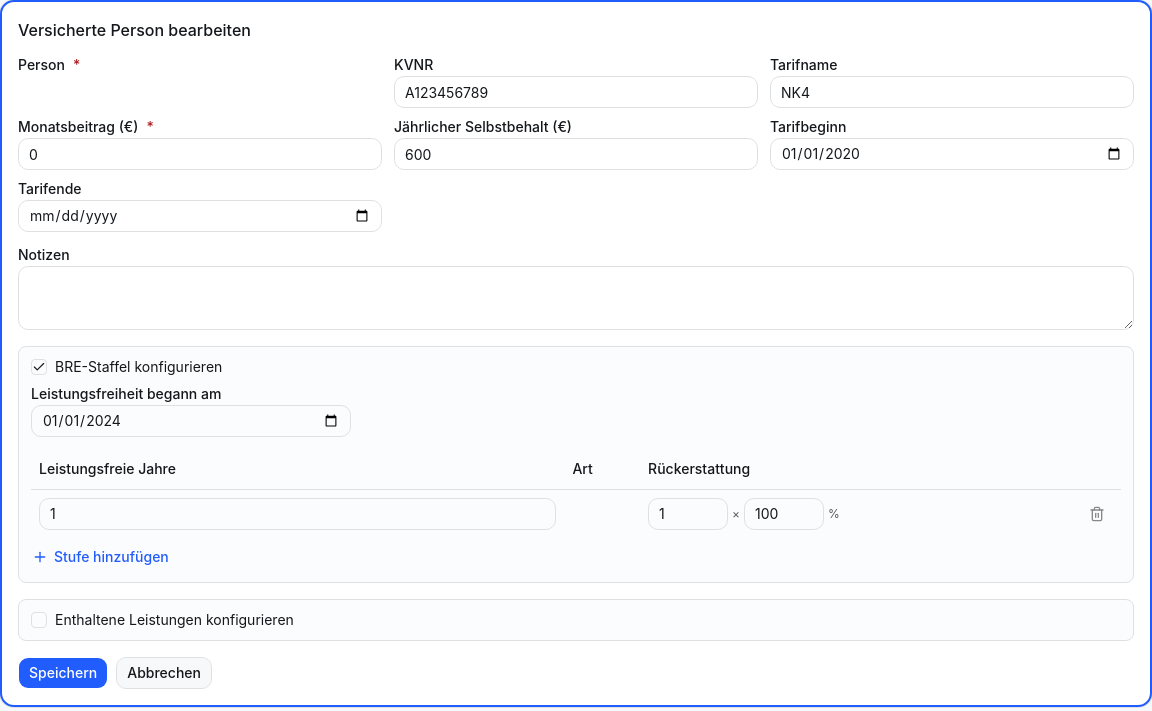
it: InsuredPersonForm › refuses to save without a Monatsbeitrag
Click the button "Speichern". click: click(63, 672)
box: [18,656,108,688]
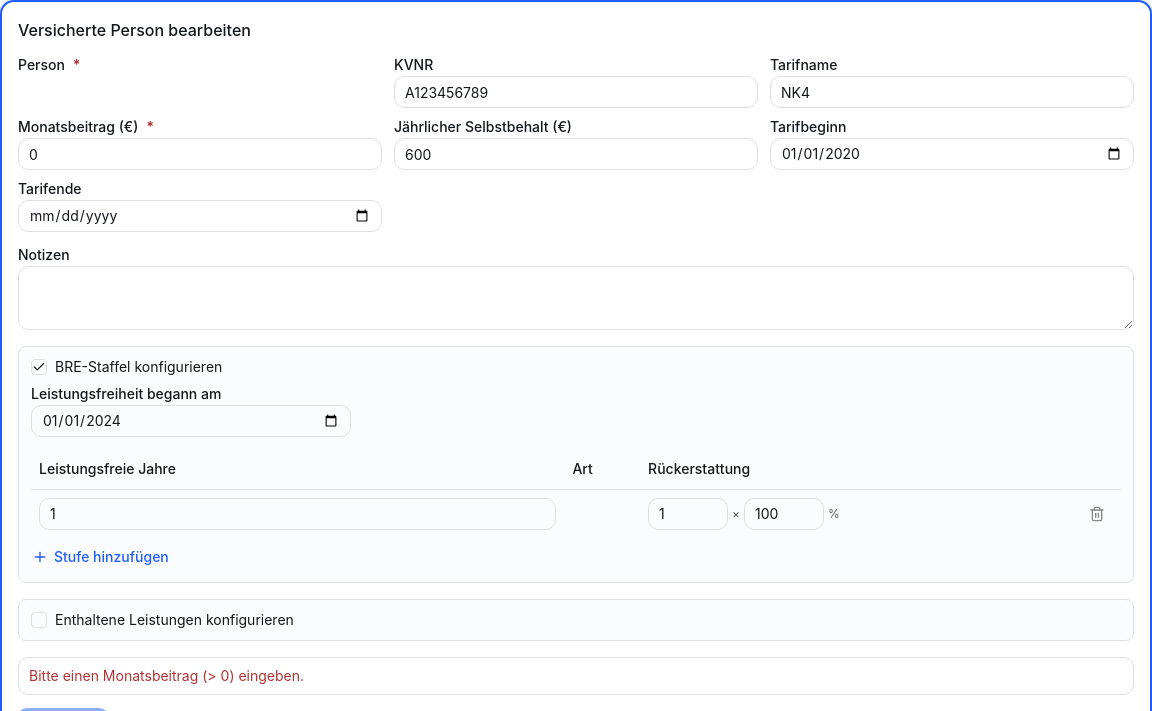
Check: the text "Bitte einen Monatsbeitrag (> 0) eingeben." is shown, box [29,666,304,684]
